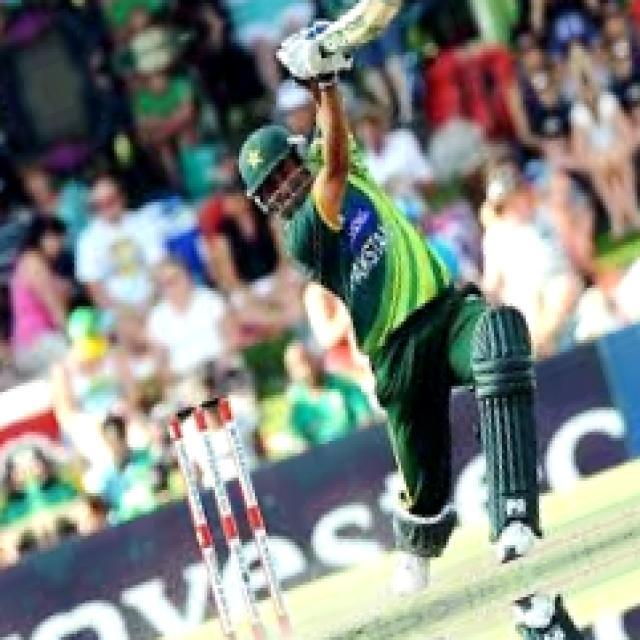bat: (333, 0, 401, 53)
toe: (369, 0, 406, 11)
